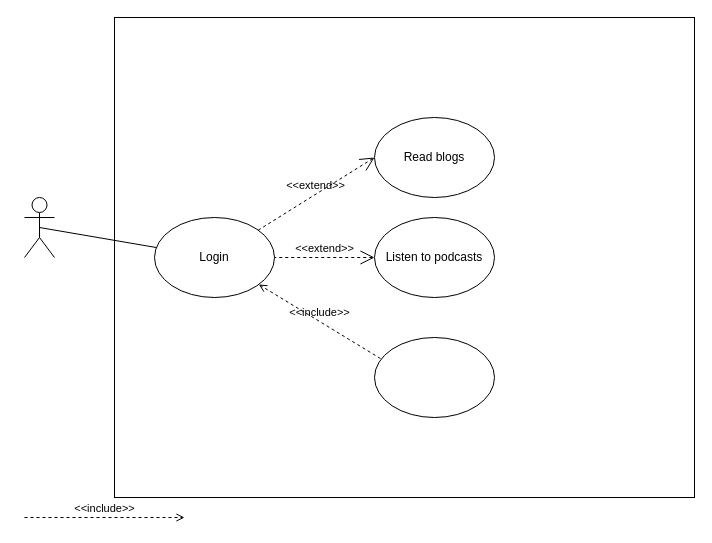
Image size: 712x543. Some labels were removed from this diagram. The shapes that lost their labels are listed below. From the top down, each one's box as (x1, y1, x2, y2) in pixels, then its label:
(24, 196, 54, 258): User
(374, 336, 494, 418): Using Writing Services
